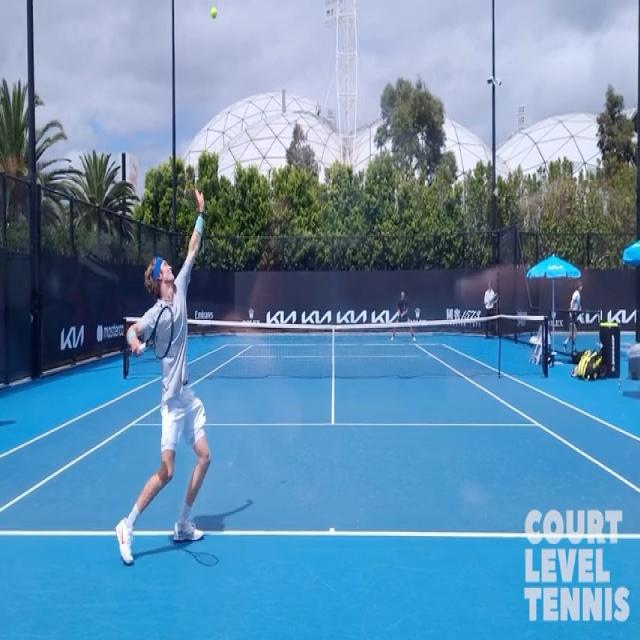serve_hit: (102, 195, 225, 573)
